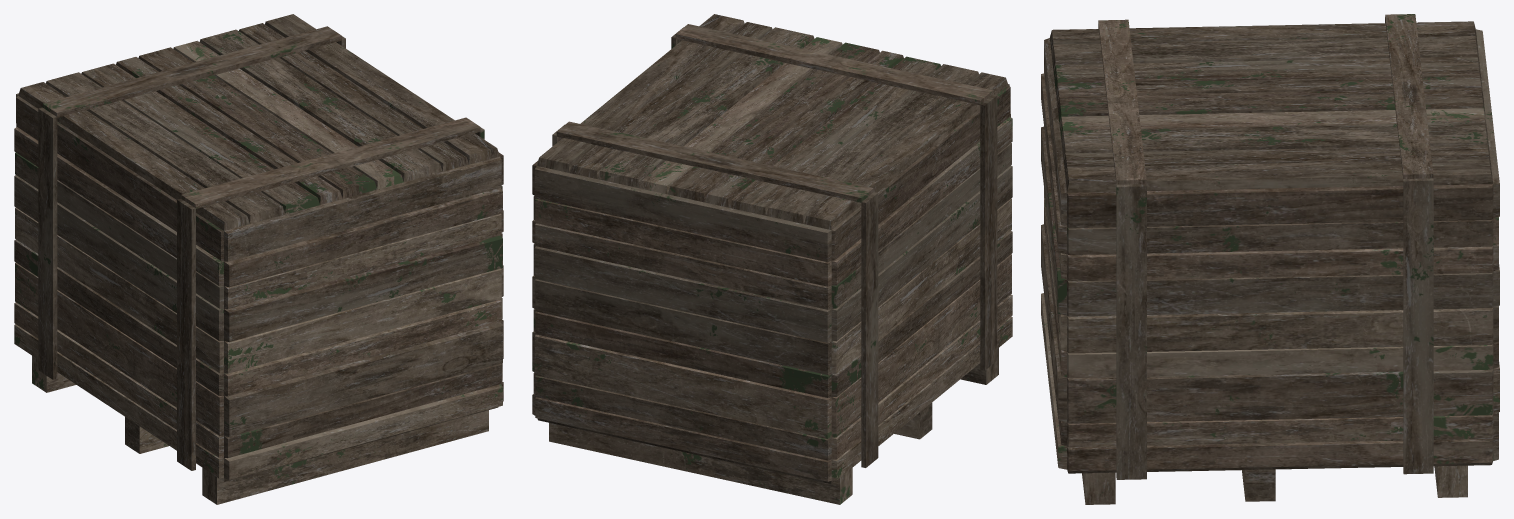
3 renders of one model, left to right at view 1: azimuth 30°, elevation 25°; view 2: azimuth 150°, elevation 25°; view 3: azimuth 270°, elevation 25°, orthographic. The views are drawn at different scales.
Parts seen in each view (by area): view 1: box_wood; view 2: box_wood; view 3: box_wood.
Part boxes in pixels (left/top/right/bottom): box_wood: left=14, top=14, right=503, bottom=504; box_wood: left=532, top=14, right=1012, bottom=504; box_wood: left=1041, top=14, right=1499, bottom=504.
Size of the model in its own units: 132 by 118 by 150.
